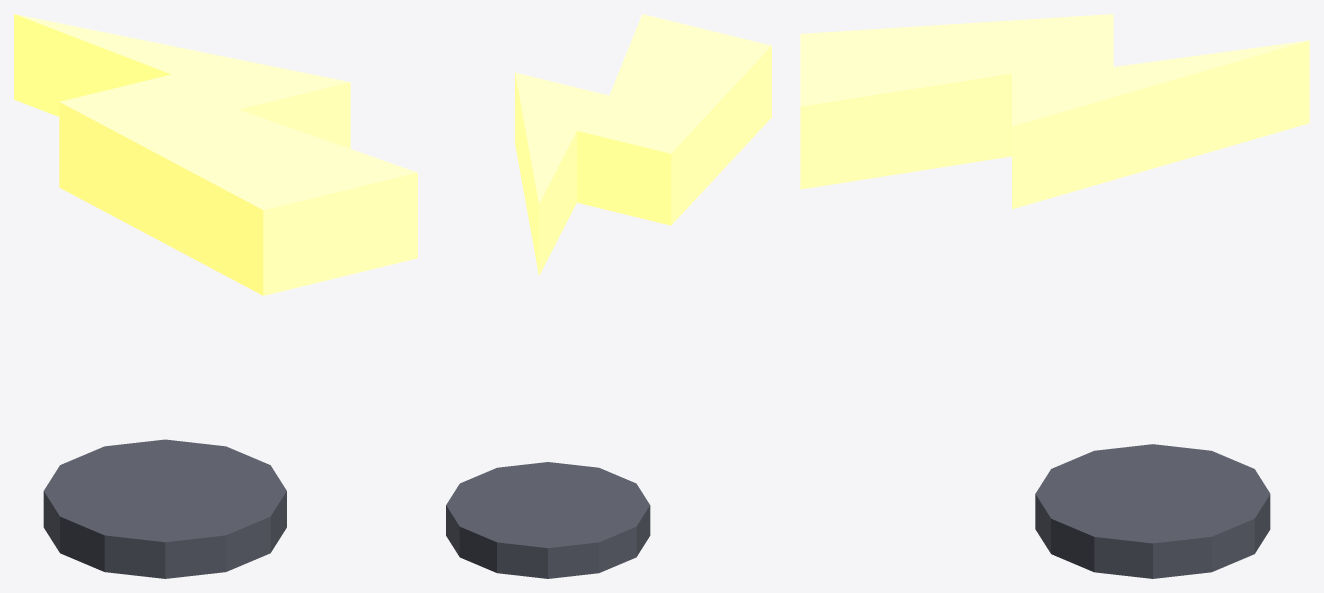
The model's file is Pickup_Velocidade.fbx.
The picture shows the model from 3 angles, left to right: view 1: azimuth 30°, elevation 25°; view 2: azimuth 150°, elevation 25°; view 3: azimuth 270°, elevation 25°; orthographic projection. The views are drawn at different scales.
Visible parts, largest first — view 1: Pickup_Velocidade; view 2: Pickup_Velocidade; view 3: Pickup_Velocidade.
Part boxes in pixels (left/top/right/bottom): Pickup_Velocidade: left=14, top=14, right=417, bottom=578; Pickup_Velocidade: left=446, top=14, right=771, bottom=578; Pickup_Velocidade: left=800, top=14, right=1309, bottom=578.
Bounding box in the file's own units: 0.408 × 0.77 × 0.78.
